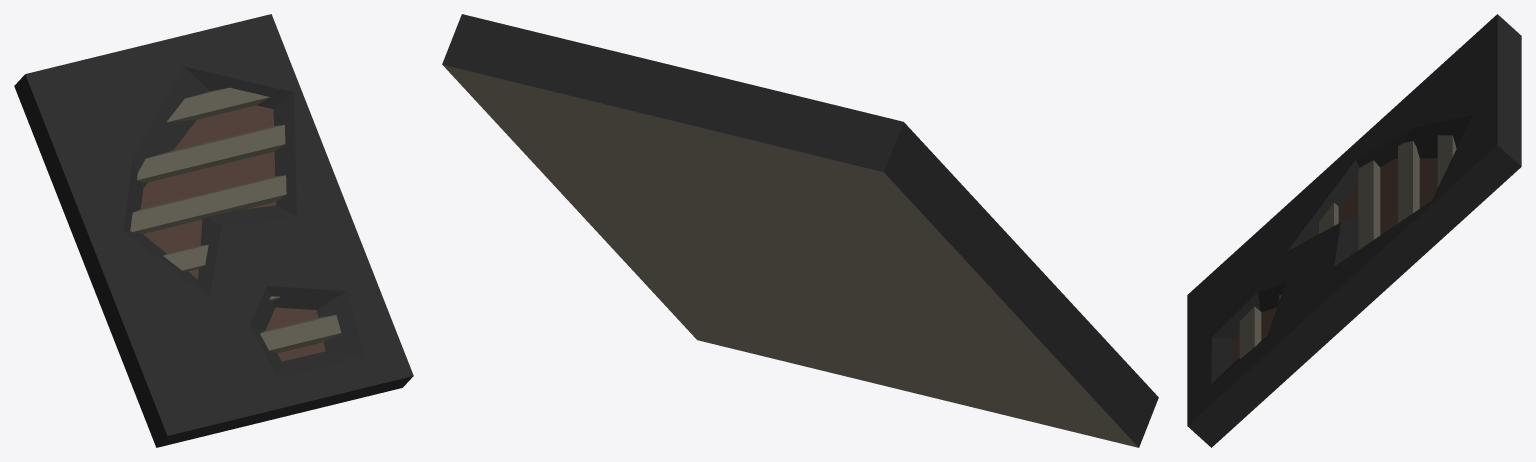
The model's file is LPHorror_RoofHole.fbx.
The picture shows the model from 3 angles, left to right: view 1: azimuth 30°, elevation 25°; view 2: azimuth 150°, elevation 25°; view 3: azimuth 270°, elevation 25°; orthographic projection. The views are drawn at different scales.
Parts seen in each view (by area): view 1: RoofHole; view 2: RoofHole; view 3: RoofHole.
Part boxes in pixels (left/top/right/bottom): RoofHole: left=14, top=14, right=413, bottom=447; RoofHole: left=442, top=14, right=1158, bottom=447; RoofHole: left=1187, top=14, right=1521, bottom=447.
Bounding box in the file's own units: 200 × 216 × 216.
